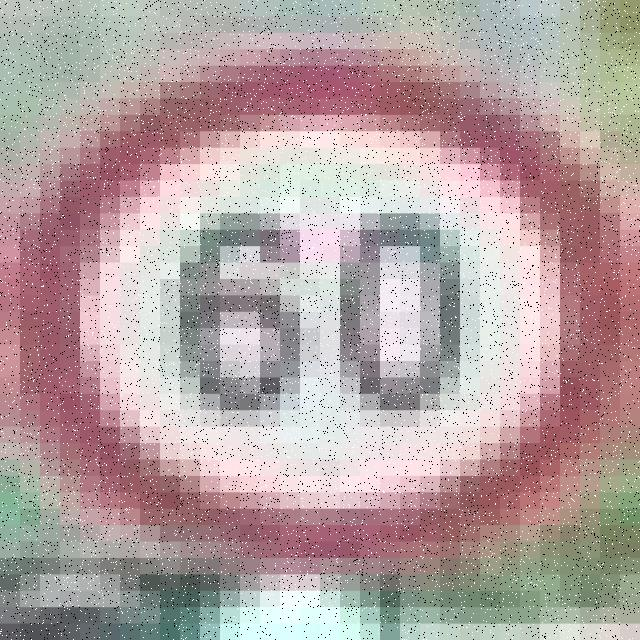Ograniczenie predkosci do 60: (0, 33, 600, 541)
